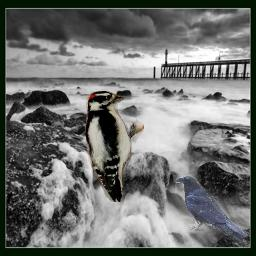Crow: (173, 175, 248, 245)
Woodpecker: (86, 91, 144, 202)
